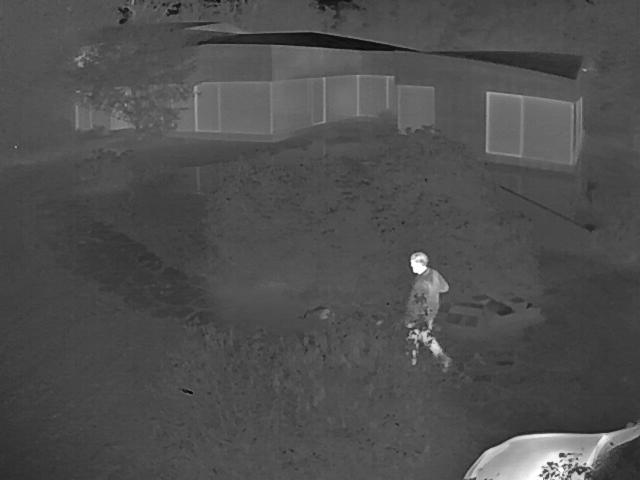person: (405, 251, 452, 370)
